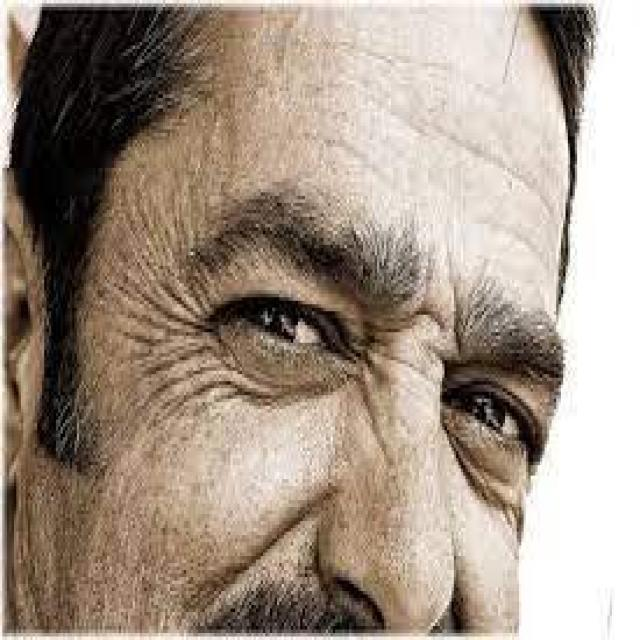Wrinkles: (98, 169, 286, 432), (291, 37, 570, 176), (303, 78, 559, 227), (368, 302, 448, 381), (355, 372, 401, 486), (478, 212, 553, 276)
